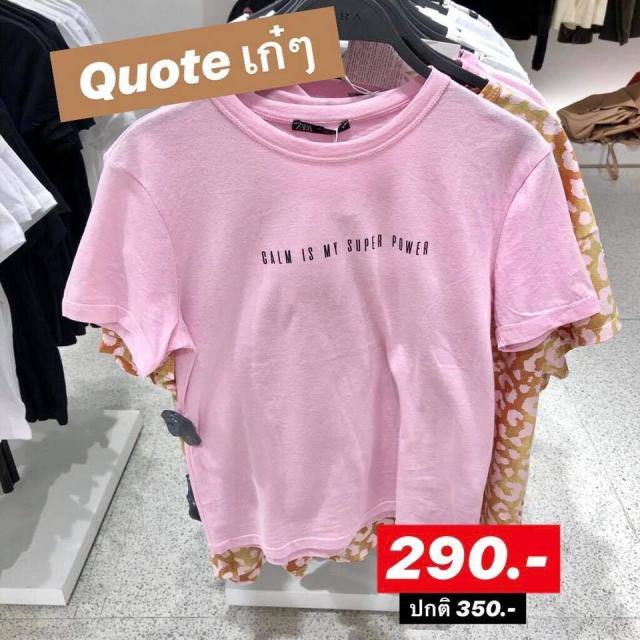Tshirt: (57, 86, 580, 577)
